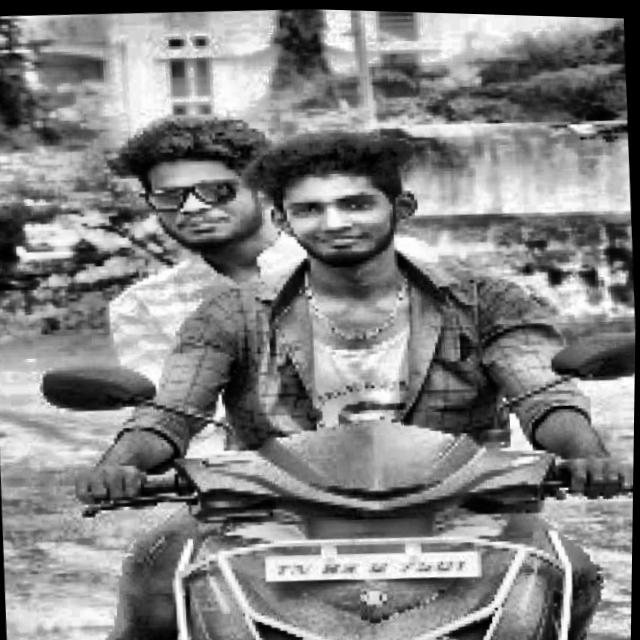motorcycle: (14, 296, 637, 640)
